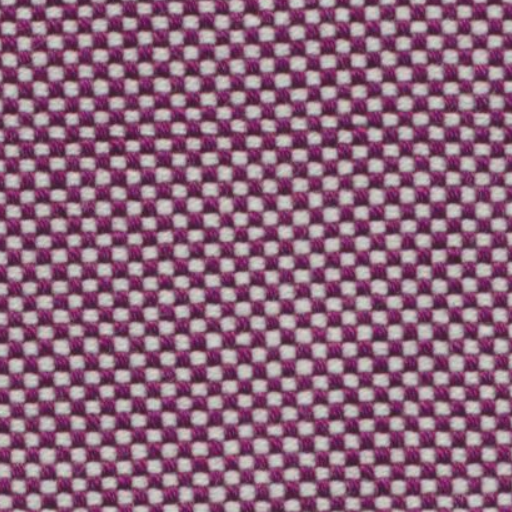TuoSha: (8, 94, 504, 174)
